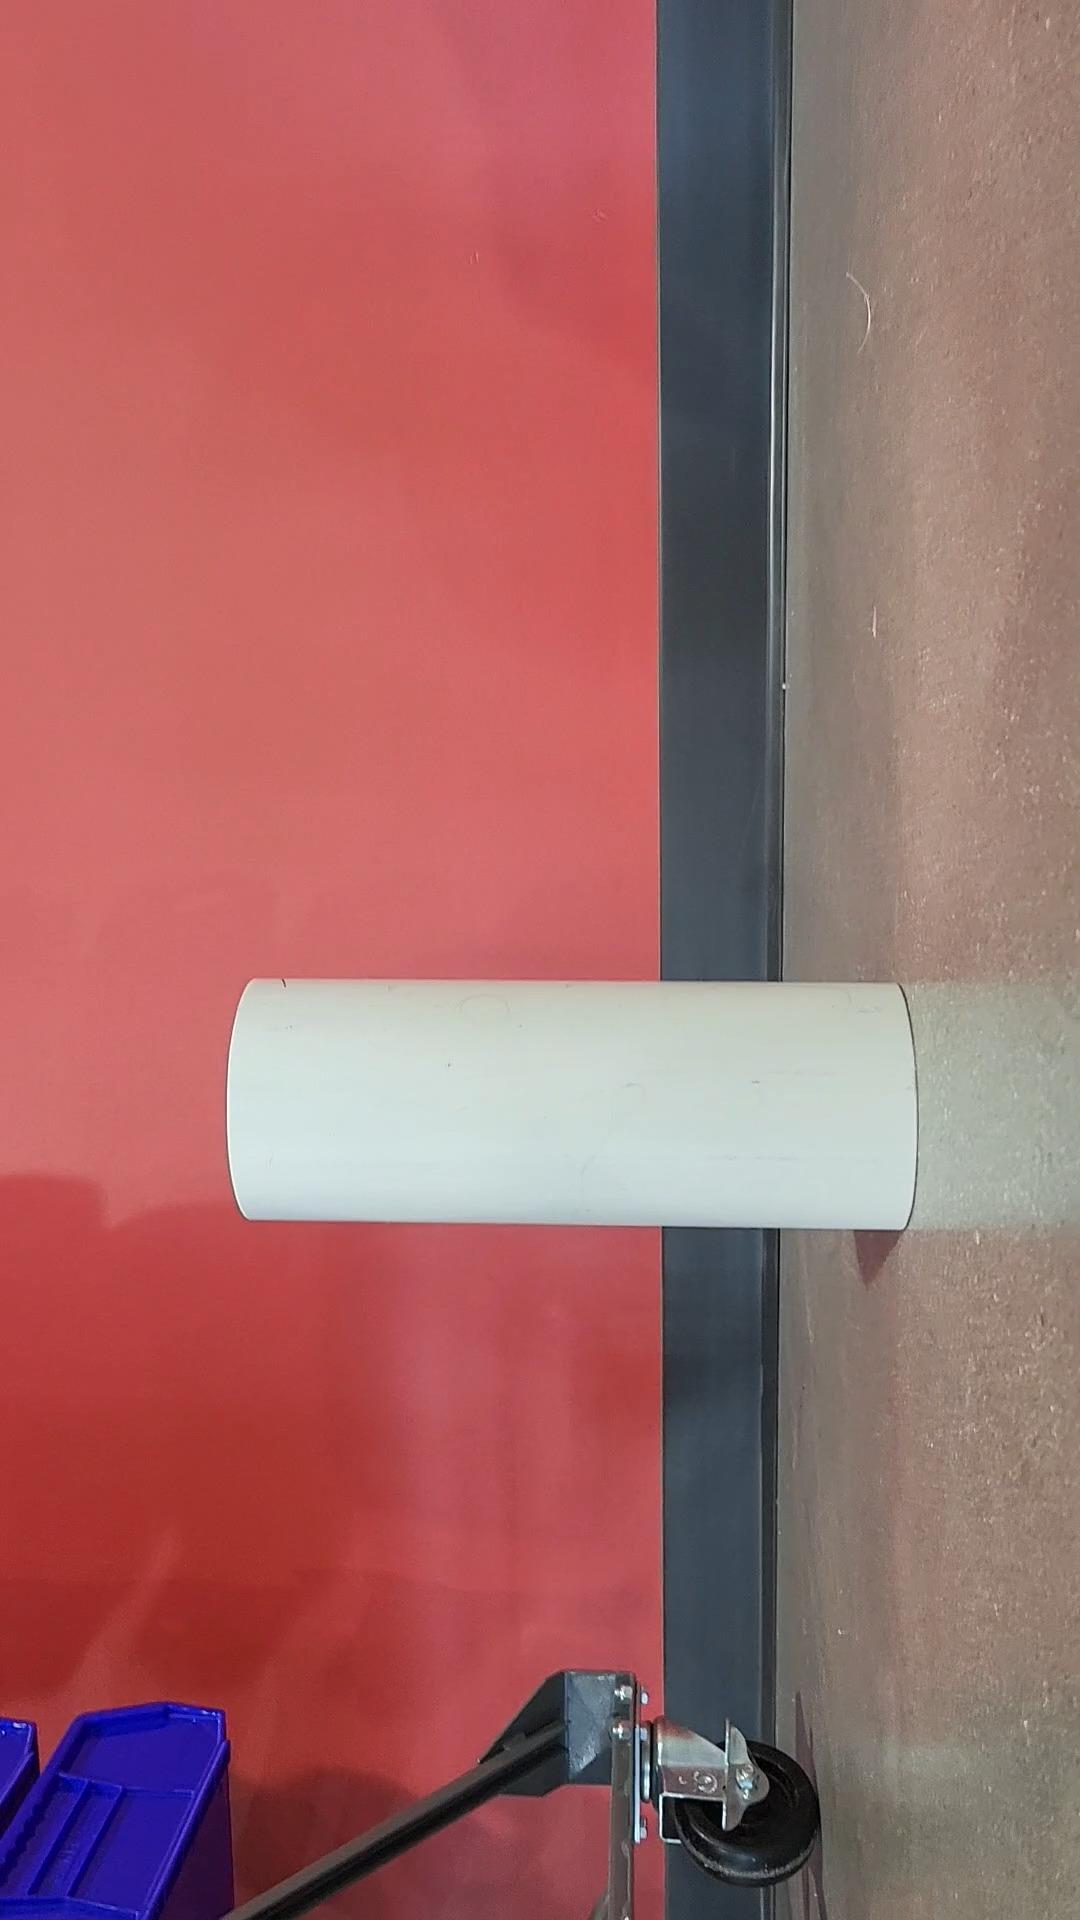coral: (227, 975, 923, 1237)
